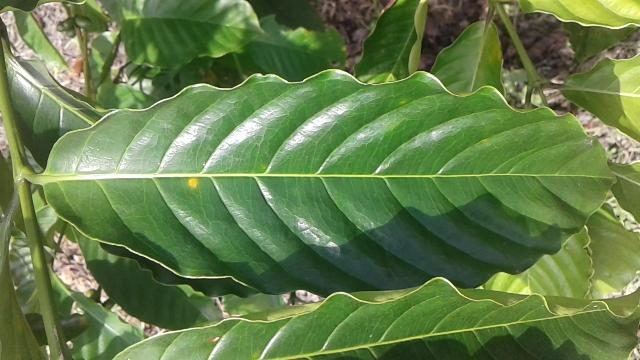rust_level_1: (39, 68, 622, 298)
